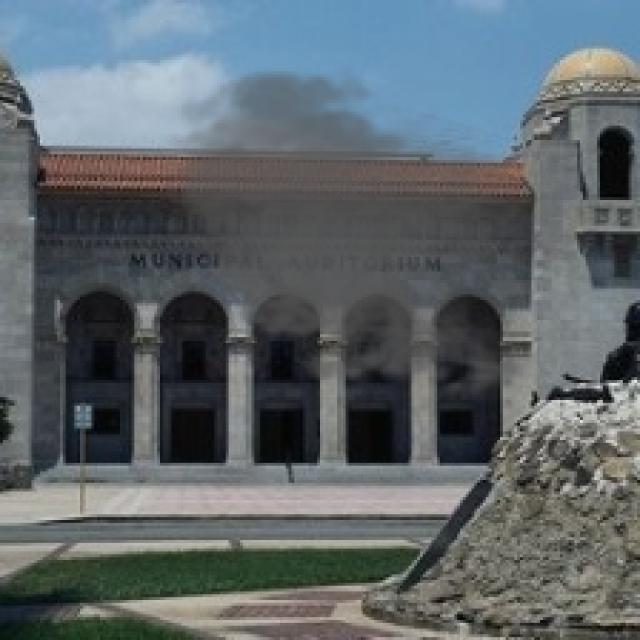smoke: (143, 63, 563, 406)
